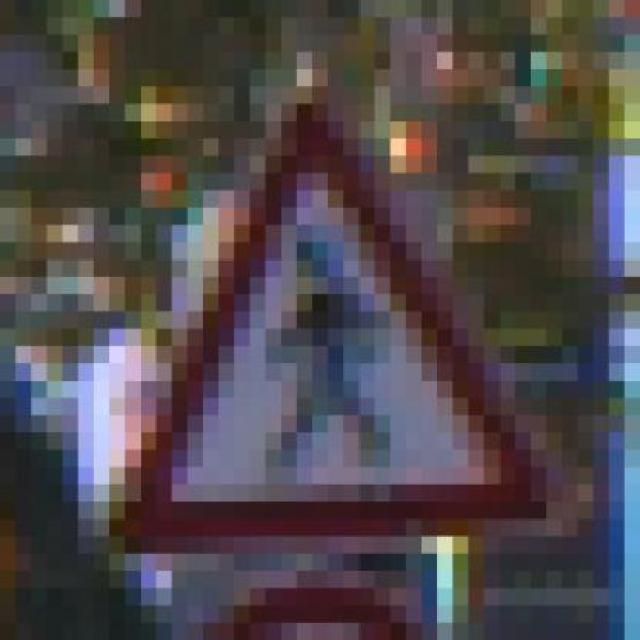Pedestrian Crossing: (62, 86, 578, 554)
